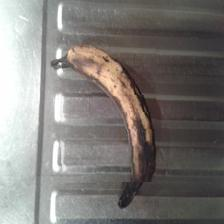Banana Rotten: (55, 37, 157, 183)
